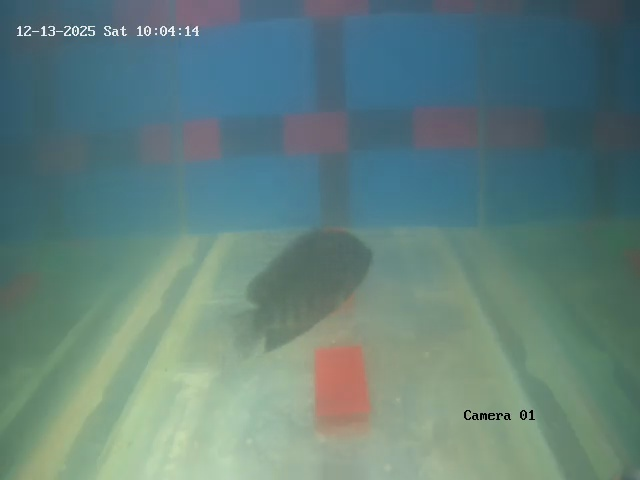fish: (250, 204, 375, 361)
